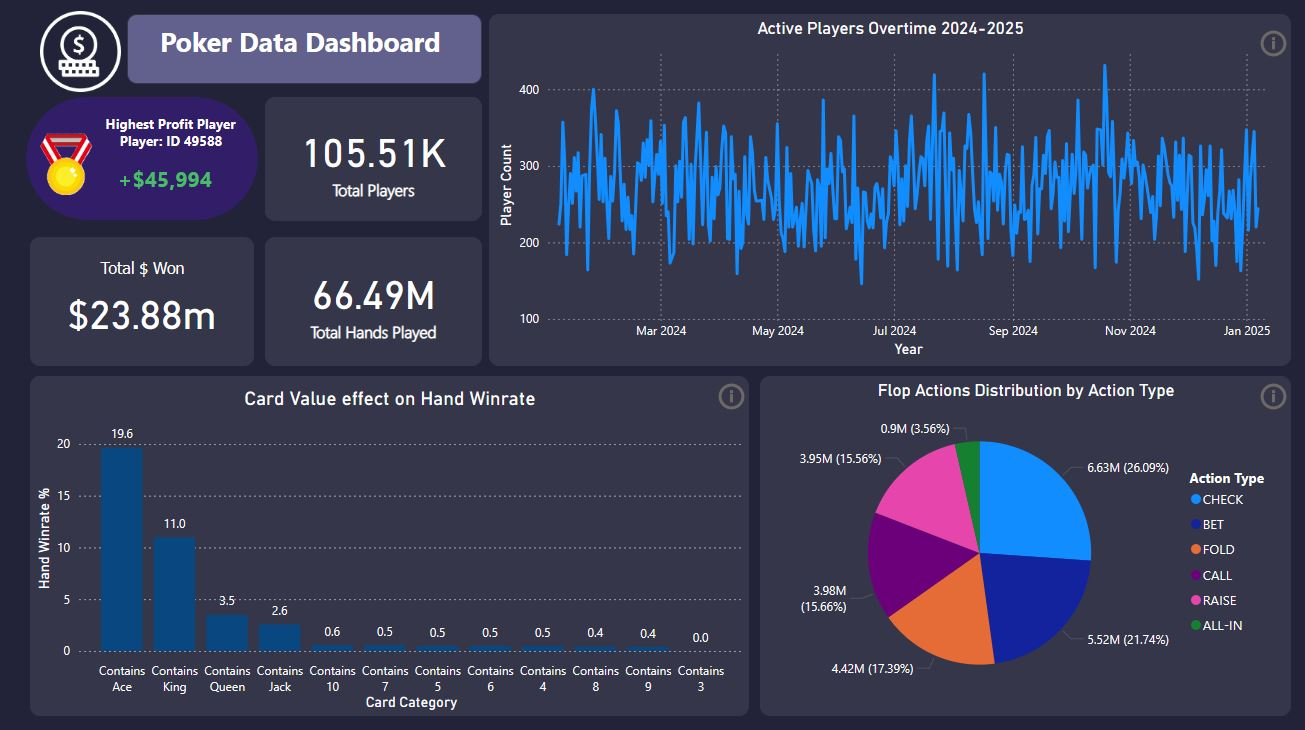

The page's visual inventory and layout, read from the dashboard file:
{"tool":"powerbi","page":{"name":"Page 1","canvas":[1280,720],"ordinal":0},"visuals":[{"type":"columnChart","title":"Card Value effect on Hand Winrate","fields":{"Y":["Sum(Query1.WINRATE)"],"Category":["Query1.CARDVALUECATEGORY"]},"box":[7.8,370,718.9,340],"z":0},{"type":"pieChart","fields":{"Category":["FlopActionCount.ACTIONTYPE"],"Y":["Sum(FlopActionCount.ACTIONCOUNT)"]},"box":[737.8,370,531.1,340],"z":1000},{"type":"card","fields":{"Values":["Sum(Total Players.TOTALPLAYERS)"]},"box":[242.7,90.9,217.3,123.6],"z":2000},{"type":"card","fields":{"Values":["Sum(Total Hands Played.TOTALHANDSPLAYED)"]},"box":[243.1,230.8,216.9,129.2],"z":3000},{"type":"card","title":"Total $ Won","fields":{"Values":["Min(Table.Total $ Won )"]},"box":[7.7,230.8,224.6,129.2],"z":4000},{"type":"lineChart","title":"Active Players Overtime 2024-2025","fields":{"Y":["Sum(Query1.TOTALHANDSPLAYED)"],"Category":["Query1.DATE.Variation.Date Hierarchy.Year","Query1.DATE.Variation.Date Hierarchy.Quarter","Query1.DATE.Variation.Date Hierarchy.Month","Query1.DATE.Variation.Date Hierarchy.Day"]},"box":[467,8,802,352],"z":5000},{"type":"actionButton","box":[1234,17,35,40],"z":6000},{"type":"actionButton","box":[1234,370,35,40],"z":7000},{"type":"actionButton","box":[692,370,35,40],"z":8000},{"type":"image","box":[0,0,117.3,90.9],"z":9000},{"type":"textbox","box":[105.5,8.2,354.5,70],"z":10000},{"type":"shape","box":[3.6,90.9,232.7,122.7],"z":11000},{"type":"image","box":[8.9,121.1,73.2,73.2],"z":12000},{"type":"textbox","box":[79.1,103.6,140.9,60.9],"z":13000},{"type":"textbox","box":[90.9,152.7,118.2,47.3],"z":13001}]}

Visuals, with their boxes in screenshot pixels (x1, y1, x2, y2), scaled from the page's 1280x720 canvas onto the 1305x730 screenshot:
"Card Value effect on Hand Winrate" columnChart: x1=8 y1=375 x2=741 y2=720
pieChart - FlopActionCount.ACTIONTYPE x Sum(FlopActionCount.ACTIONCOUNT): x1=752 y1=375 x2=1294 y2=720
card - Sum(Total Players.TOTALPLAYERS): x1=247 y1=92 x2=469 y2=217
card - Sum(Total Hands Played.TOTALHANDSPLAYED): x1=248 y1=234 x2=469 y2=365
"Total $ Won" card: x1=8 y1=234 x2=237 y2=365
"Active Players Overtime 2024-2025" lineChart: x1=476 y1=8 x2=1294 y2=365
actionButton: x1=1258 y1=17 x2=1294 y2=58
actionButton: x1=1258 y1=375 x2=1294 y2=416
actionButton: x1=706 y1=375 x2=741 y2=416
image: x1=0 y1=0 x2=120 y2=92
textbox: x1=108 y1=8 x2=469 y2=79
shape: x1=4 y1=92 x2=241 y2=217
image: x1=9 y1=123 x2=84 y2=197
textbox: x1=81 y1=105 x2=224 y2=167
textbox: x1=93 y1=155 x2=213 y2=203
